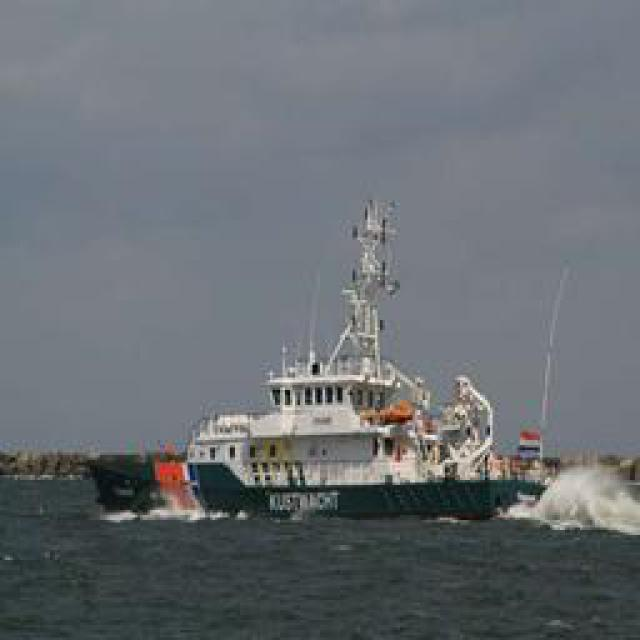Ship: (167, 194, 540, 519)
